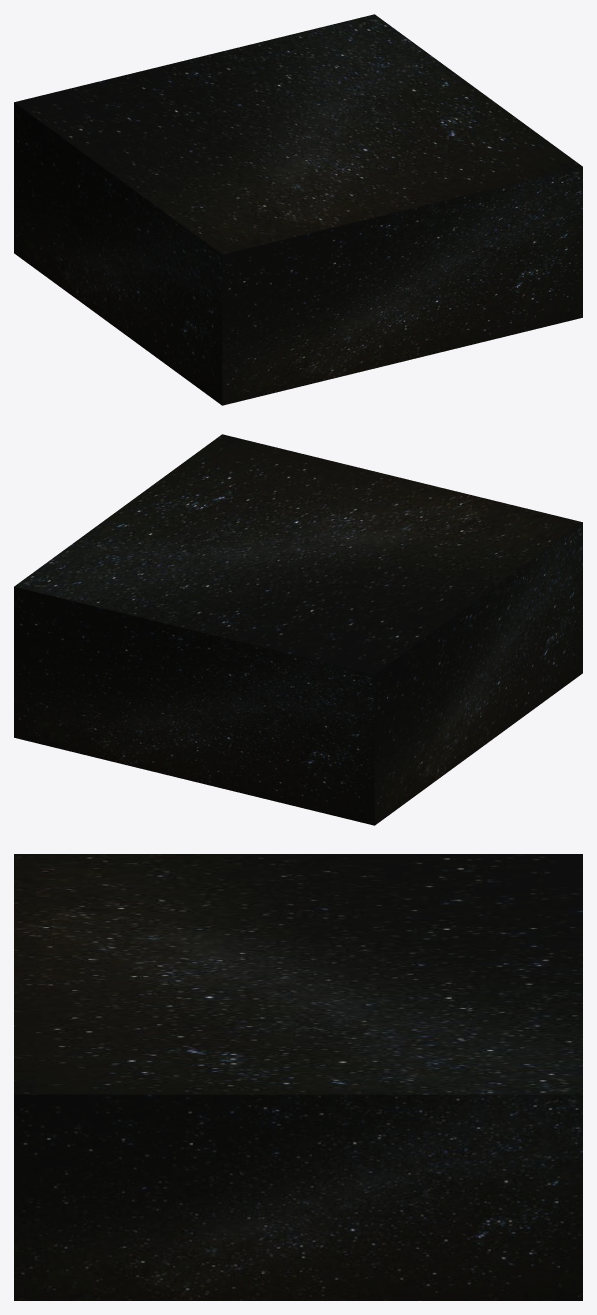
File: cerberus.fbx
3 views of the same model, one above another, from view 1: azimuth 30°, elevation 25°; view 2: azimuth 150°, elevation 25°; view 3: azimuth 270°, elevation 25° (orthographic). The views are drawn at different scales.
Parts seen in each view (by area): view 1: cube_833; view 2: cube_833; view 3: cube_833.
Boxes of the visible parts, x1=… form: cube_833: x1=14, y1=14, x2=582, y2=405; cube_833: x1=14, y1=434, x2=582, y2=825; cube_833: x1=14, y1=854, x2=582, y2=1300.
Bounding box in the file's own units: 250000 × 100000 × 250000.
5 materials, 5 textured.
